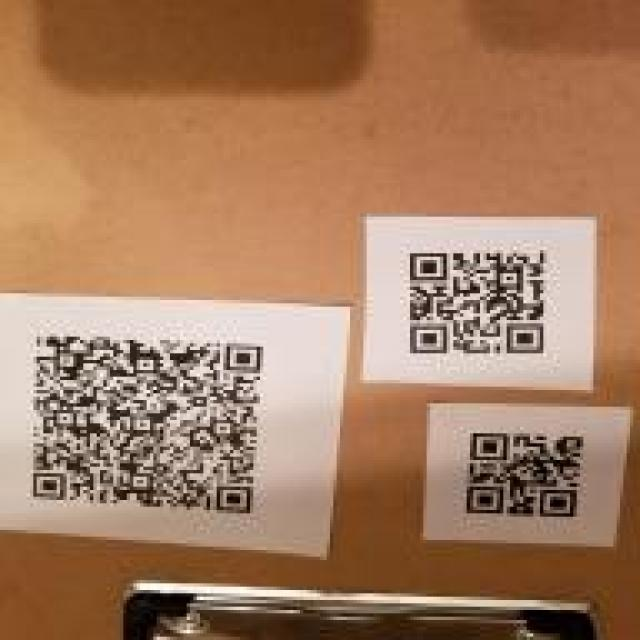qr_code: (33, 333, 264, 515), (409, 252, 544, 354), (466, 433, 583, 518)
